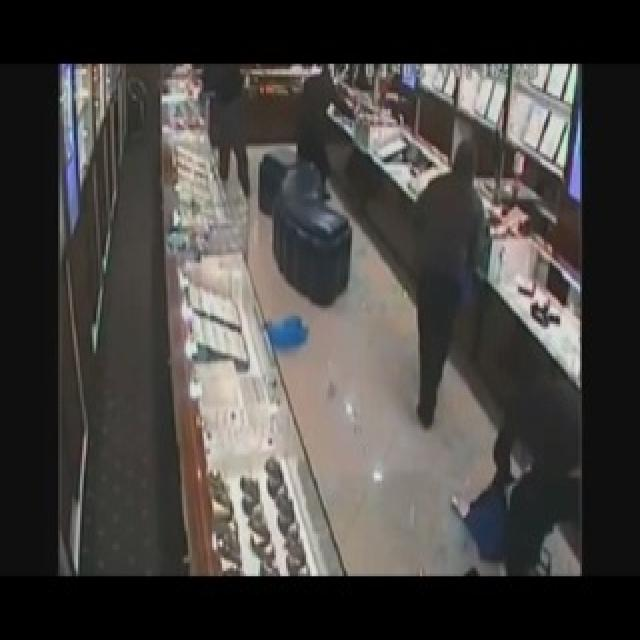thief: (408, 129, 488, 420), (484, 376, 580, 580), (292, 64, 352, 198), (210, 66, 251, 197)
